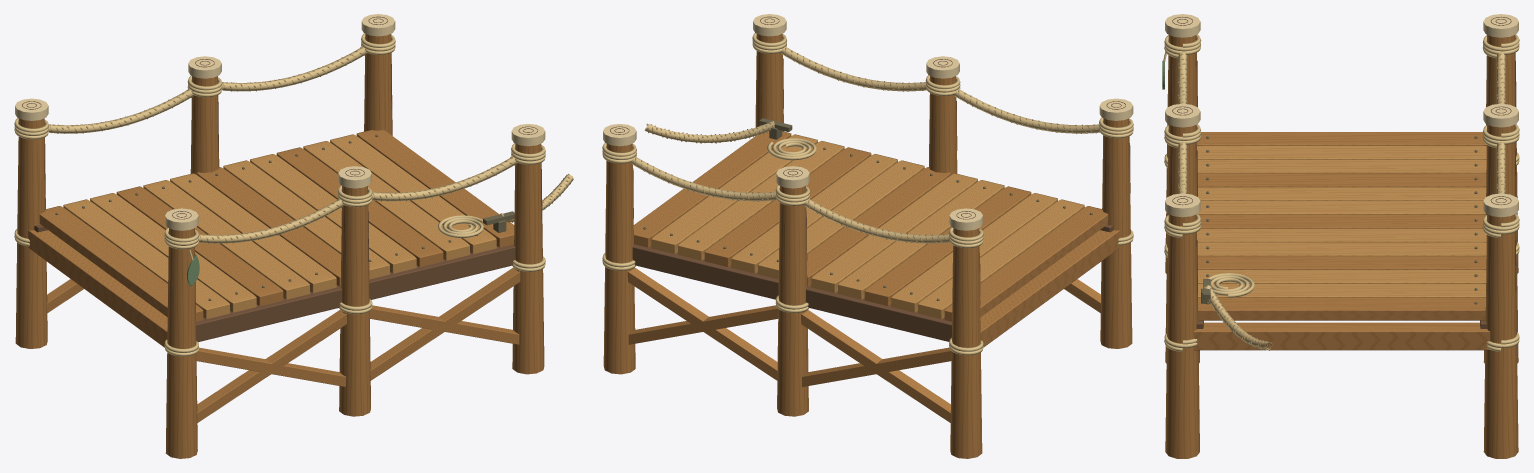
The model's file is rope-dock.glb.
The picture shows the model from 3 angles, left to right: view 1: azimuth 30°, elevation 25°; view 2: azimuth 150°, elevation 25°; view 3: azimuth 270°, elevation 25°; orthographic projection. The views are drawn at different scales.
Parts seen in each view (by area): view 1: dock-deck, dock-posts, dock-supports, dock-ropes; view 2: dock-deck, dock-posts, dock-supports, dock-ropes, dock-mooring-line; view 3: dock-deck, dock-posts, dock-supports, dock-ropes, dock-mooring-line.
Part boxes in pixels (x1=…): dock-deck: x1=39, y1=130, x2=514, y2=321; dock-posts: x1=14, y1=14, x2=545, y2=458; dock-supports: x1=28, y1=224, x2=520, y2=422; dock-ropes: x1=49, y1=46, x2=517, y2=243; dock-deck: x1=633, y1=118, x2=1108, y2=321; dock-posts: x1=602, y1=14, x2=1133, y2=458; dock-supports: x1=627, y1=224, x2=1119, y2=422; dock-ropes: x1=630, y1=46, x2=1099, y2=243; dock-mooring-line: x1=644, y1=121, x2=774, y2=143; dock-deck: x1=1197, y1=132, x2=1486, y2=320; dock-posts: x1=1162, y1=14, x2=1519, y2=458; dock-supports: x1=1193, y1=320, x2=1490, y2=350; dock-ropes: x1=1177, y1=53, x2=1506, y2=193; dock-mooring-line: x1=1203, y1=285, x2=1272, y2=350.
Bounding box in the file's own units: 5.67 × 2.88 × 3.7.
8 materials, 2 textured.
